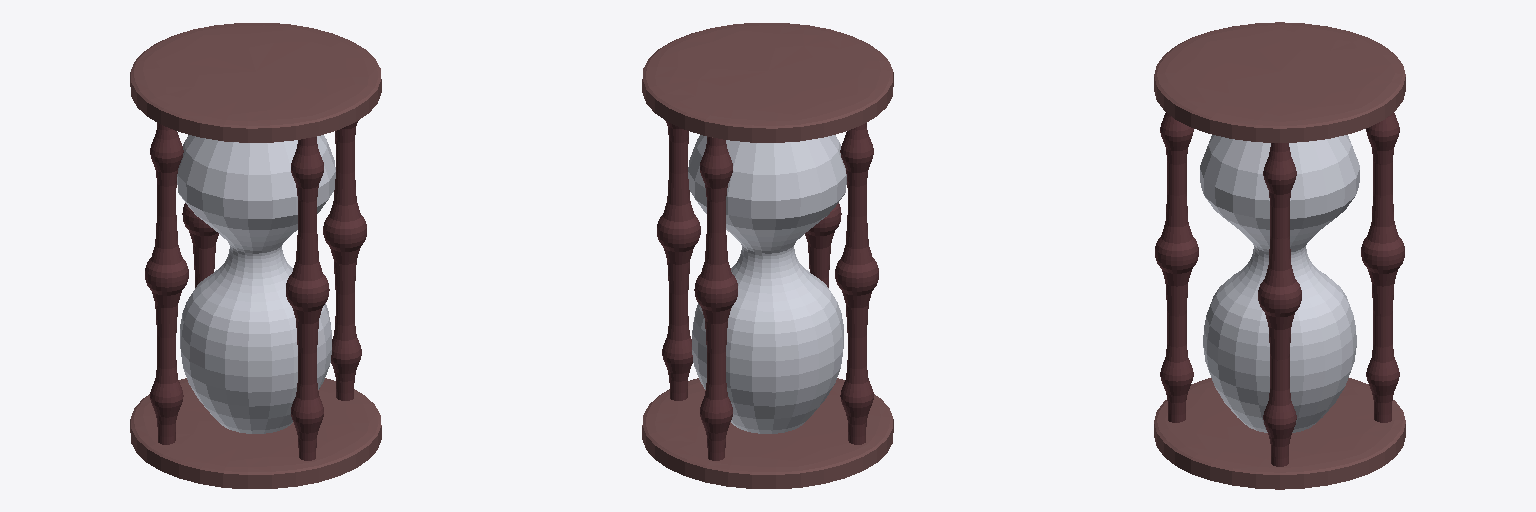
File: clock.obj
3 renders of one model, left to right at view 1: azimuth 30°, elevation 25°; view 2: azimuth 150°, elevation 25°; view 3: azimuth 270°, elevation 25°, orthographic.
Parts seen in each view (by area): view 1: Base, Glass, Legs; view 2: Base, Glass, Legs; view 3: Base, Glass, Legs.
Boxes of the visible parts, x1=… form: Base: x1=130, y1=23, x2=381, y2=488; Glass: x1=177, y1=135, x2=335, y2=433; Legs: x1=145, y1=120, x2=366, y2=460; Base: x1=642, y1=23, x2=893, y2=488; Glass: x1=688, y1=135, x2=846, y2=433; Legs: x1=657, y1=120, x2=878, y2=460; Base: x1=1154, y1=22, x2=1405, y2=489; Glass: x1=1200, y1=135, x2=1359, y2=432; Legs: x1=1155, y1=112, x2=1404, y2=466.
Bounding box in the file's own units: 1.36 × 2.2 × 1.36.